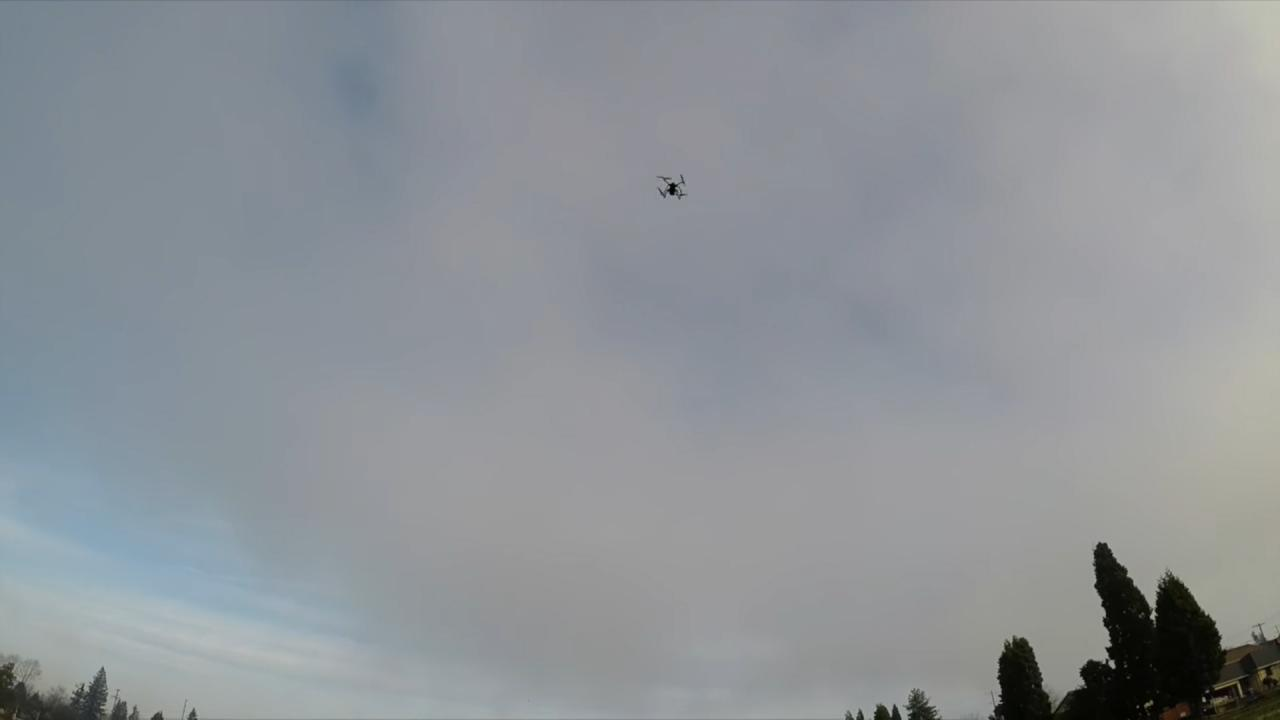Drone: (647, 165, 697, 209)
